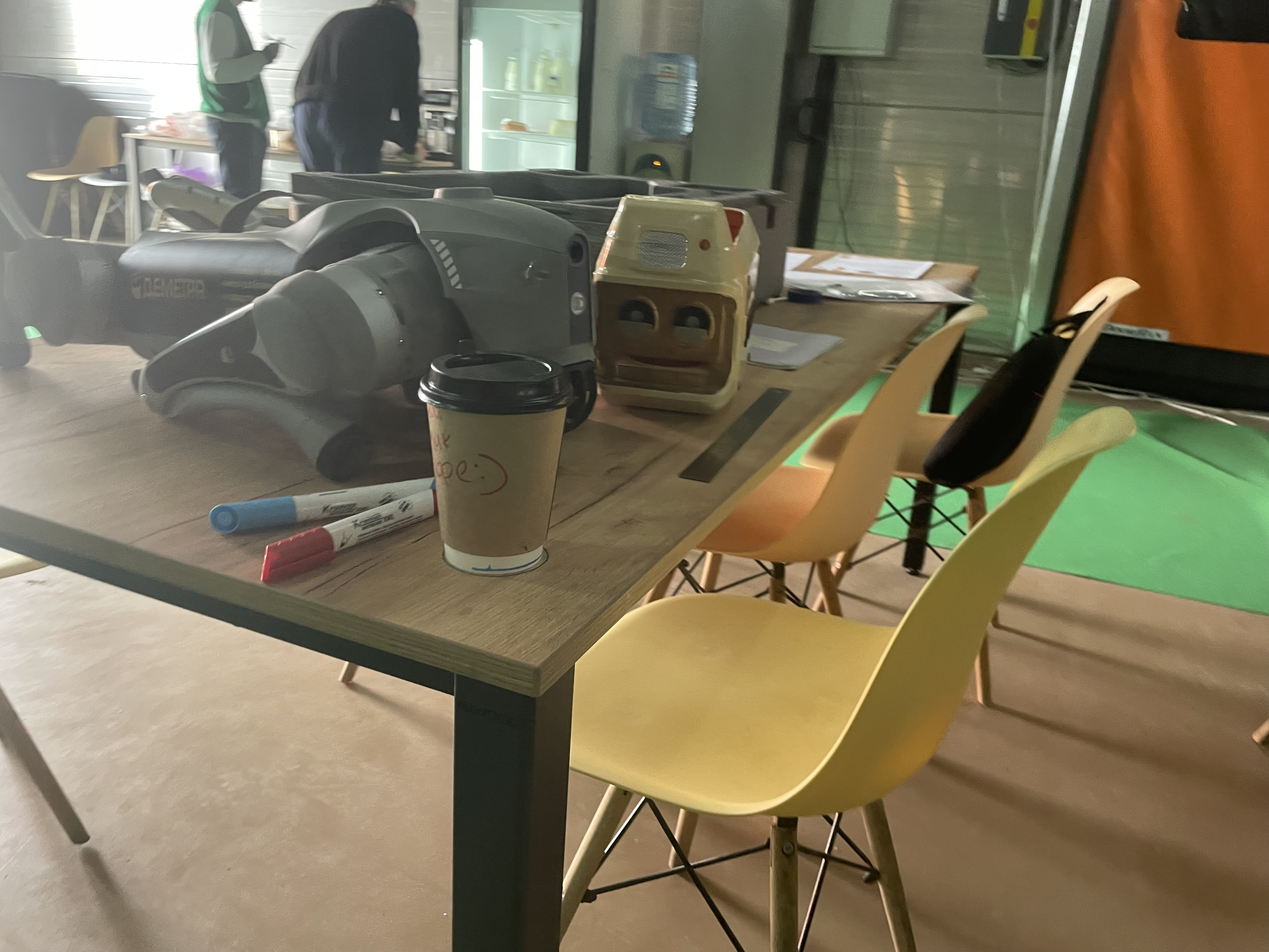cup: (418, 339, 577, 576)
